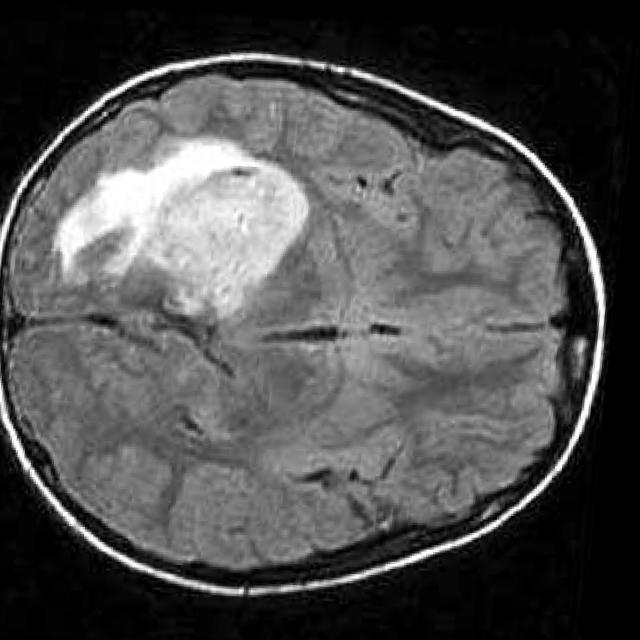Tumor: (60, 136, 313, 321)
